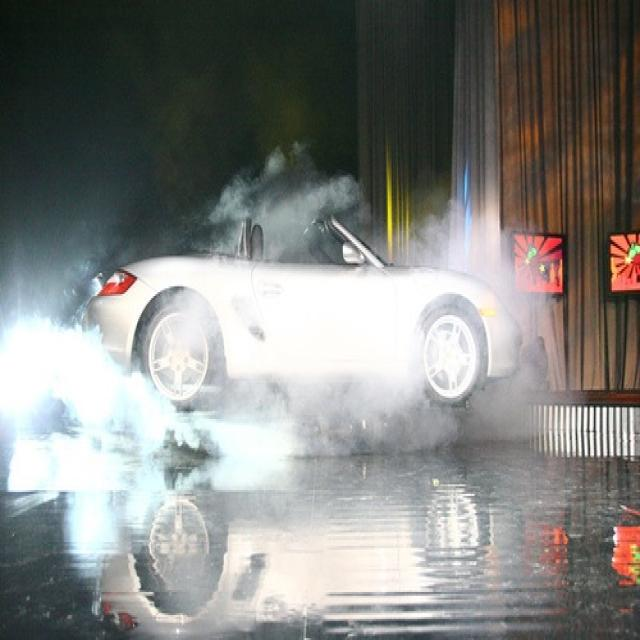car: (86, 217, 522, 408)
